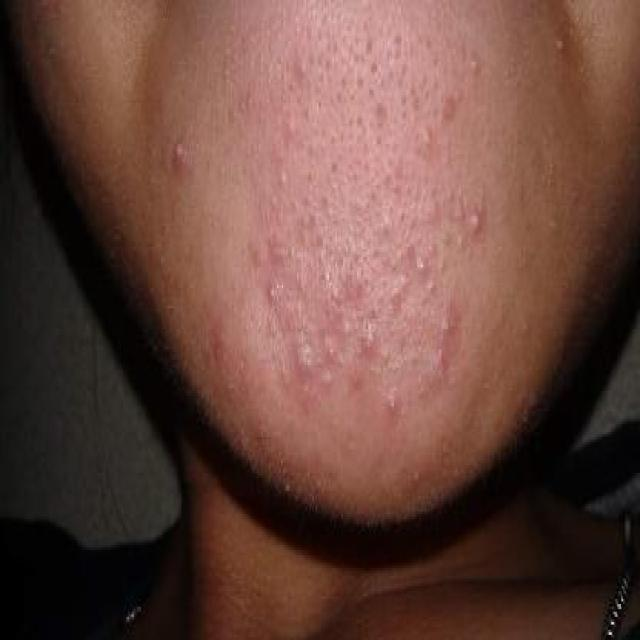papules: (358, 316, 388, 357), (289, 337, 314, 378)
pustules: (460, 182, 500, 250), (163, 131, 202, 180), (464, 31, 490, 82), (550, 21, 578, 64), (385, 388, 409, 429), (414, 242, 435, 282), (322, 337, 343, 370)
